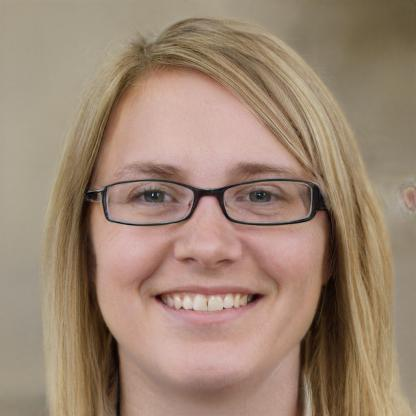glasses: (96, 176, 322, 235)
